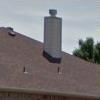Chimney: (40, 3, 68, 64)
